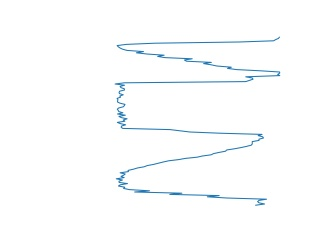distributaryChannelFill: (111, 74, 268, 142)
mouthBar: (113, 34, 284, 77)
underwaterDistributaryChannel: (114, 138, 269, 210)
